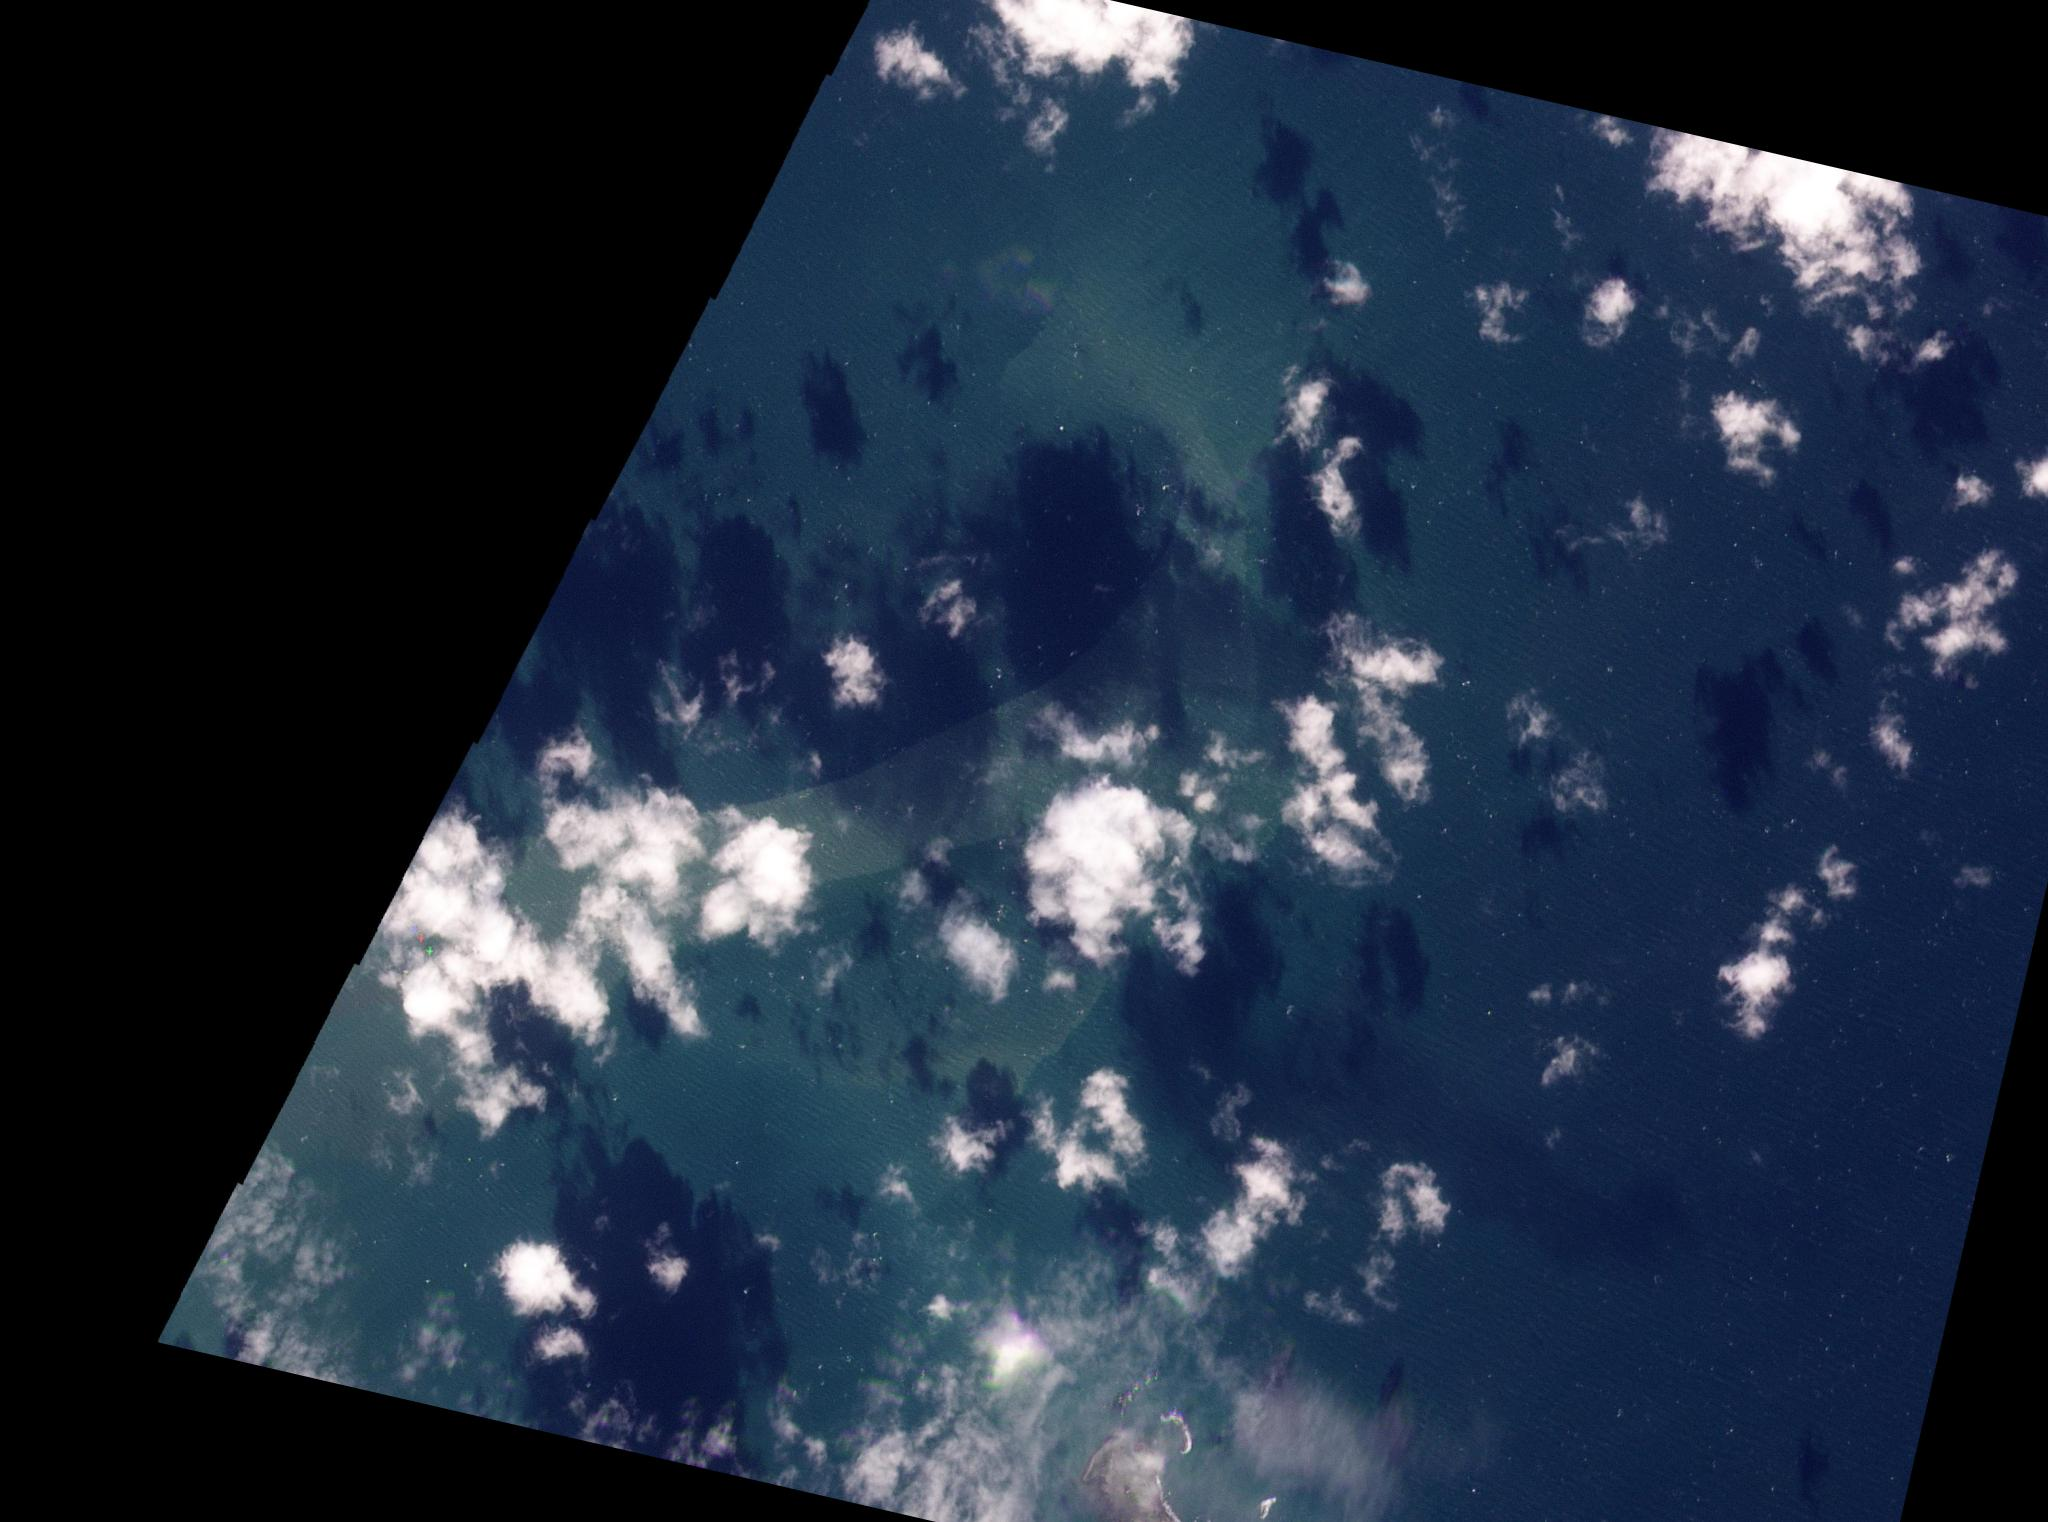ship: (924, 878, 1039, 1010), (1548, 473, 1687, 579), (1063, 1060, 1181, 1183), (854, 6, 985, 117), (1004, 836, 1204, 908), (480, 1225, 611, 1333), (1693, 379, 1815, 496), (1014, 691, 1159, 780), (1236, 745, 1434, 807), (1287, 673, 1477, 737), (1290, 425, 1386, 552), (1851, 683, 1934, 795), (1047, 1113, 1148, 1204), (790, 625, 883, 721), (1266, 357, 1348, 464), (1142, 868, 1223, 972), (1452, 265, 1540, 355), (635, 654, 716, 748), (924, 1102, 1012, 1183), (1568, 265, 1644, 357), (1525, 1025, 1613, 1102), (994, 90, 1057, 181), (633, 1213, 699, 1300), (911, 568, 982, 646), (521, 1316, 604, 1378), (1314, 94, 1381, 163), (1009, 1084, 1068, 1159), (1701, 942, 1832, 975), (2000, 417, 2048, 508), (870, 1154, 935, 1220), (1807, 838, 1867, 908), (804, 935, 862, 1007), (911, 534, 990, 585), (1204, 1076, 1258, 1148), (889, 859, 943, 924), (914, 822, 962, 876), (1946, 464, 1995, 513), (1541, 53, 1592, 101), (1727, 318, 1768, 374), (1950, 860, 2003, 897), (1693, 288, 1736, 329), (1042, 961, 1089, 999), (1891, 545, 1934, 582), (1874, 608, 2035, 617), (694, 878, 833, 887), (598, 1189, 612, 1242), (1989, 288, 2008, 323), (1194, 1052, 1213, 1086), (1343, 1229, 1464, 1234), (1434, 104, 1453, 134), (811, 743, 822, 785), (761, 1210, 775, 1241), (1636, 289, 1644, 326), (1763, 289, 1771, 320), (1538, 977, 1544, 1007), (1554, 34, 1562, 48), (1549, 1129, 1556, 1143), (1477, 758, 1639, 758)
